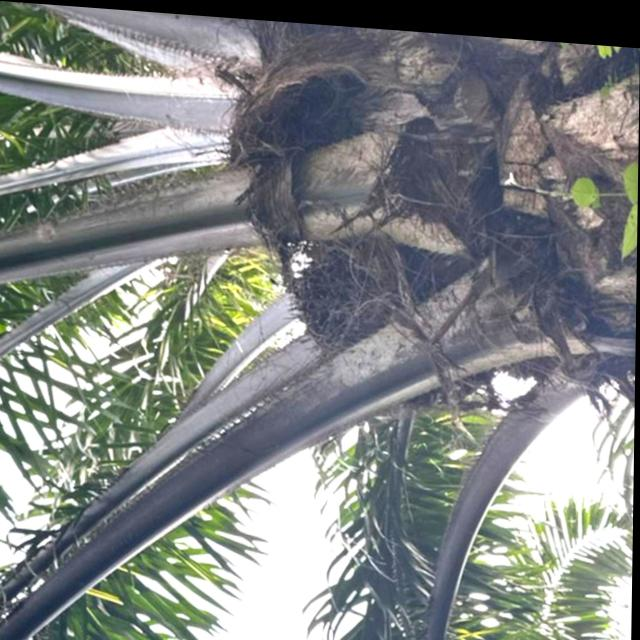almost: (268, 232, 512, 420)
